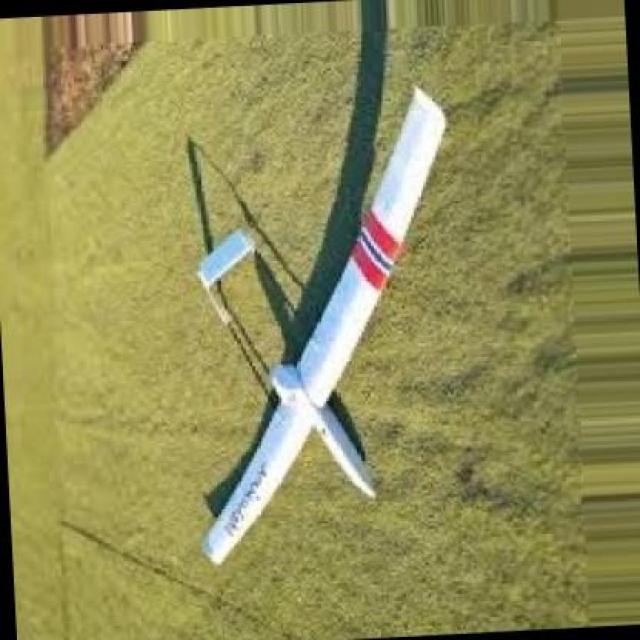iha: (178, 80, 456, 571)
